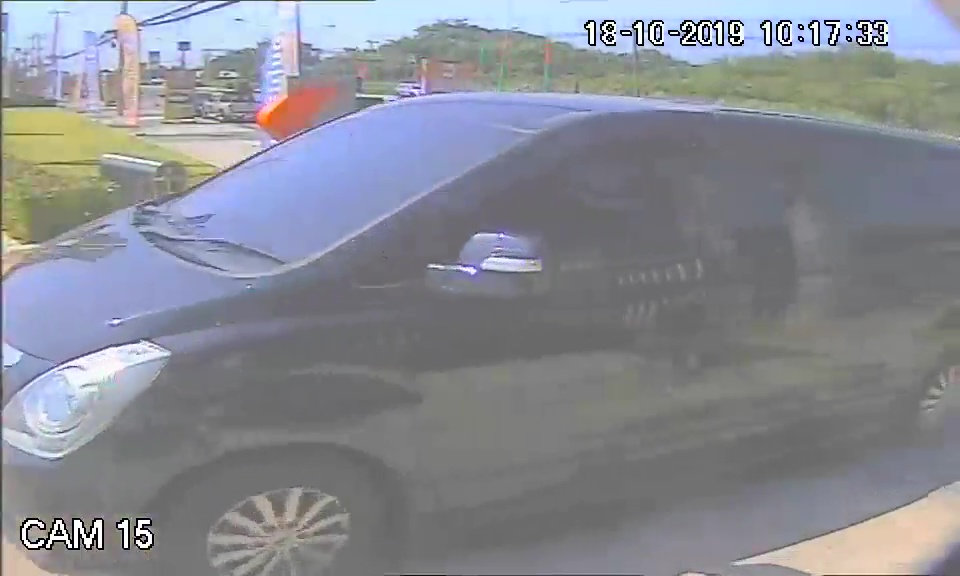van: (12, 87, 945, 538)
